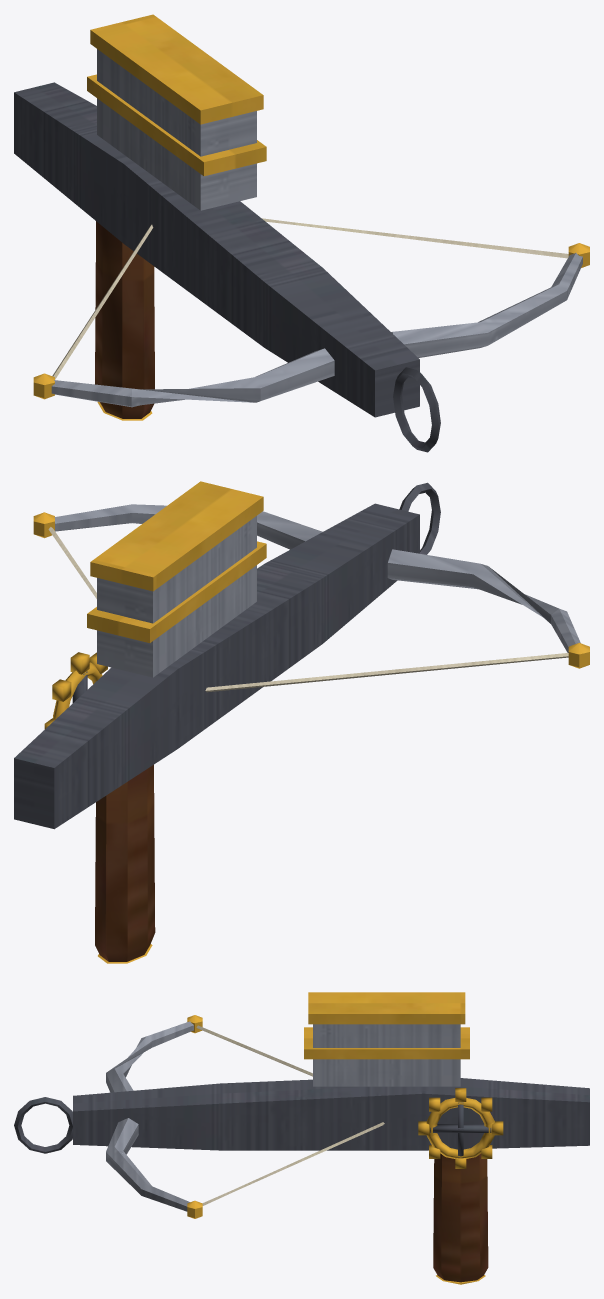
The model's file is brynn_repeater_crossbow.glb.
The picture shows the model from 3 angles, top to bottom: view 1: azimuth 30°, elevation 25°; view 2: azimuth 150°, elevation 25°; view 3: azimuth 270°, elevation 25°; orthographic projection. The views are drawn at different scales.
Visible parts, largest first — view 1: brynn_repeater_crossbow; view 2: brynn_repeater_crossbow, gear; view 3: brynn_repeater_crossbow, gear.
Boxes of the visible parts, bbox=[...] form: brynn_repeater_crossbow: bbox=[14, 14, 589, 452]; brynn_repeater_crossbow: bbox=[14, 481, 589, 963]; gear: bbox=[44, 652, 107, 729]; brynn_repeater_crossbow: bbox=[14, 992, 589, 1284]; gear: bbox=[418, 1088, 503, 1168].
Bounding box in the file's own units: 0.4951 × 0.336 × 0.624.
Materials: 5 (5 with a texture image).
